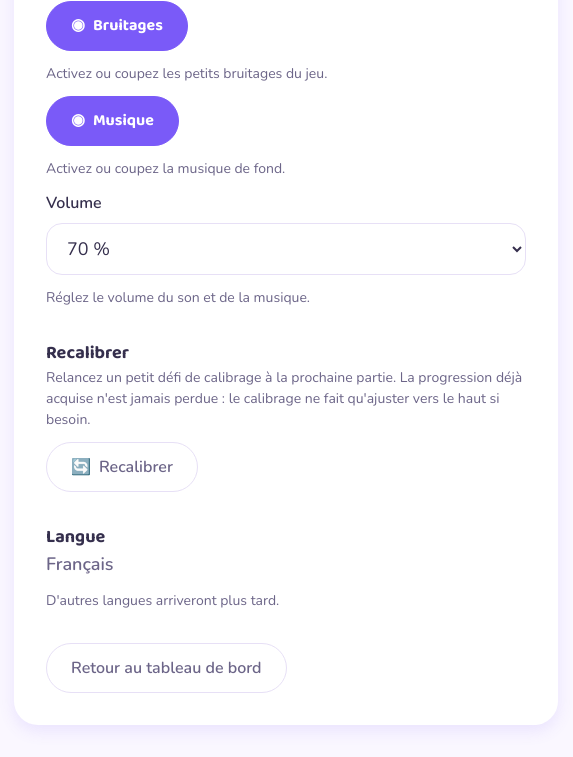
SettingsForm — recalibrer (story 7.6, ADR 0016) › annuler ⇒ referme la confirmation SANS appeler l'action
(page scrolled)
Click the button "🔄 Recalibrer" at (122, 467), box top-left (46, 442), bottom-right (198, 492)
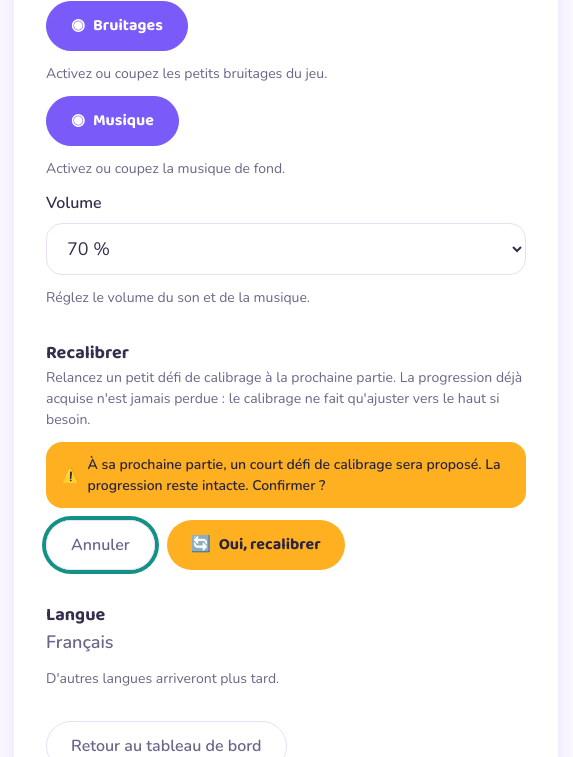
Click the button "Annuler" at (100, 545), box top-left (46, 520), bottom-right (155, 570)
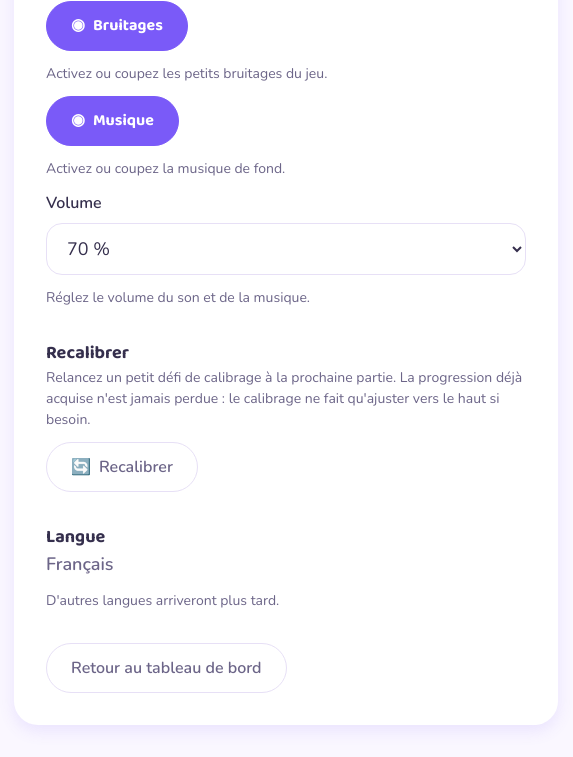
Expected: the button "Oui, recalibrer" is gone
Expected: the button "🔄 Recalibrer" is shown, top-left (46, 442), bottom-right (198, 492)
